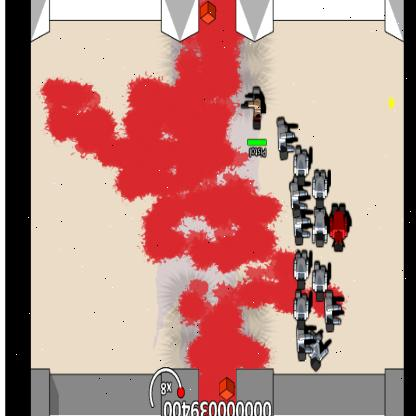agent: (251, 85, 262, 132)
ball: (388, 96, 394, 110)
boss: (330, 202, 349, 251)
jombie: (290, 181, 309, 216), (312, 168, 328, 208), (313, 261, 328, 302), (312, 209, 328, 247), (294, 288, 310, 326), (295, 250, 310, 290), (294, 146, 310, 183), (277, 118, 291, 160), (309, 330, 322, 373), (293, 215, 311, 246), (324, 291, 336, 335), (295, 327, 309, 360)
